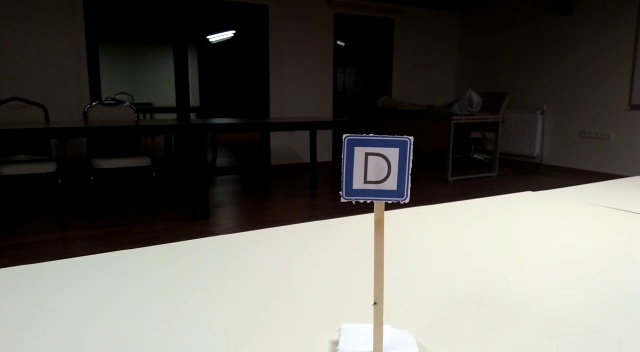durak: (341, 135, 413, 200)
